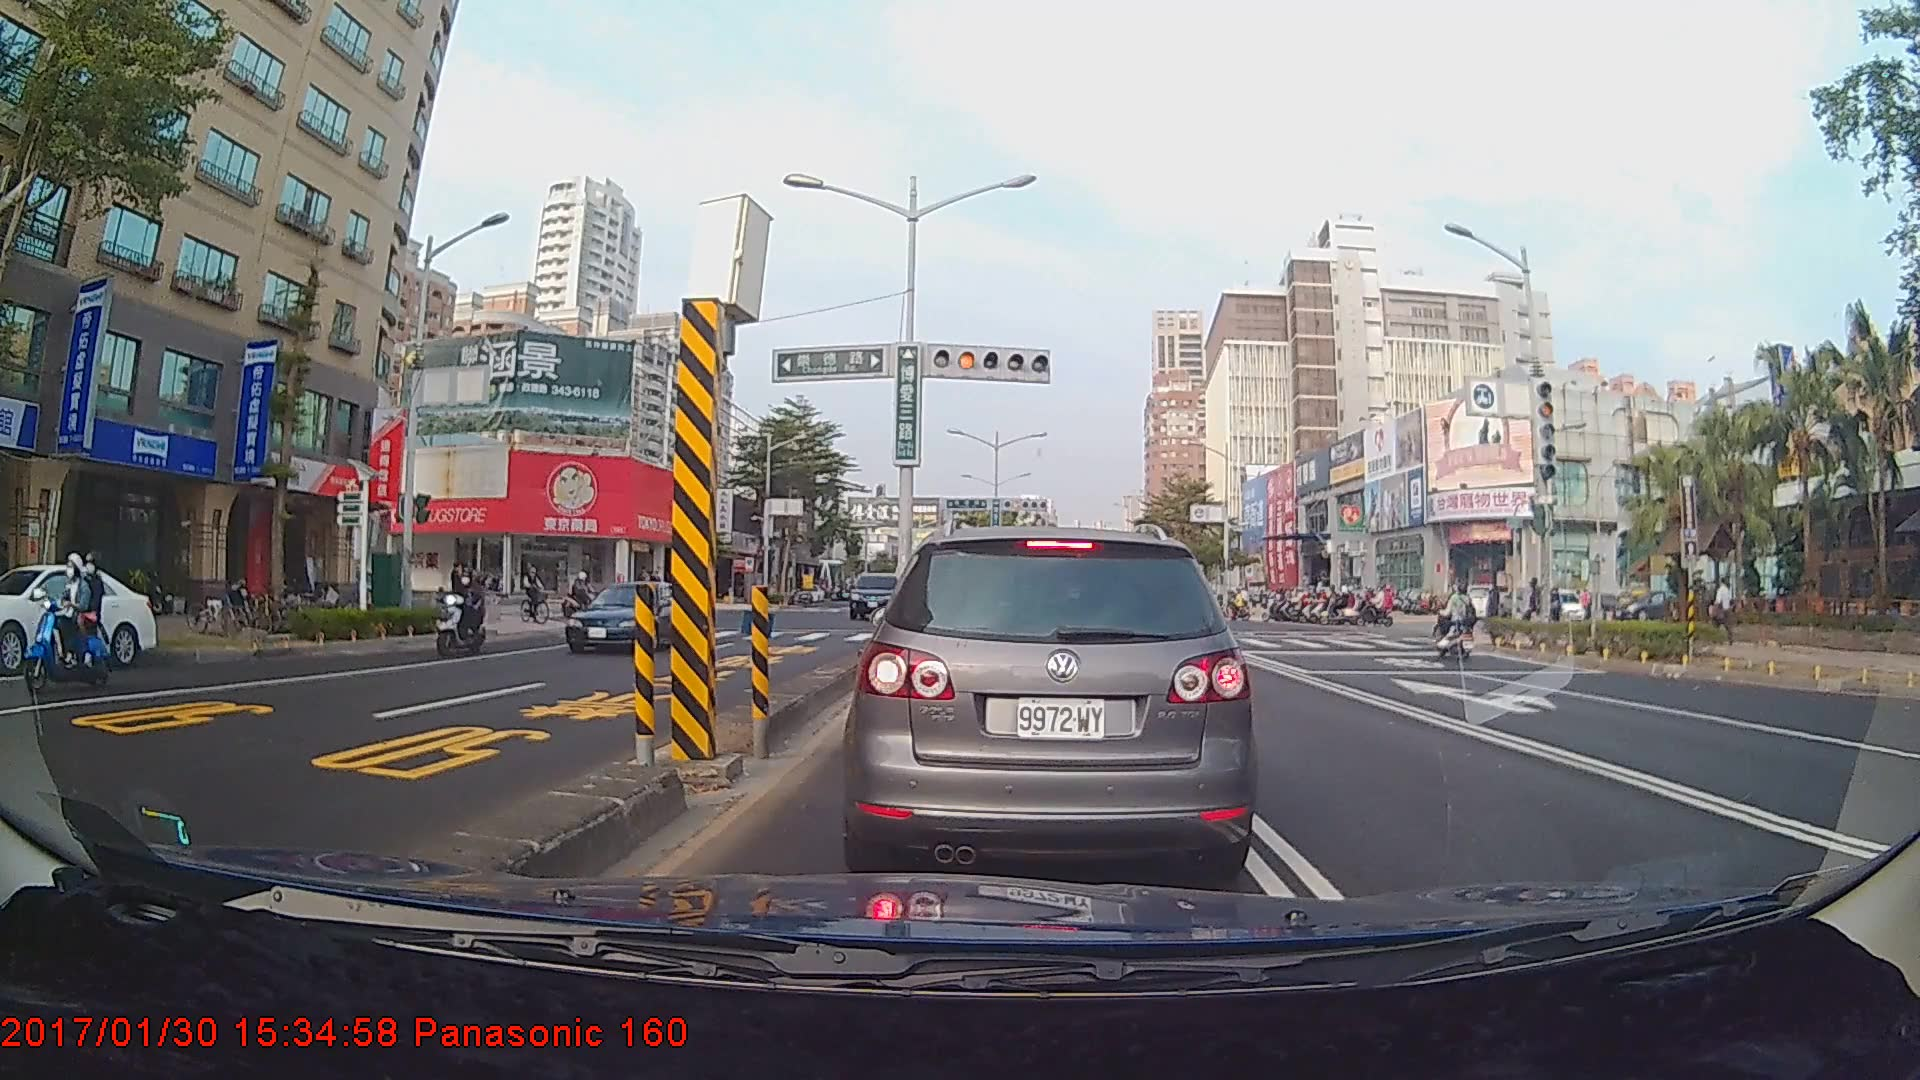pedestrian: (1712, 576, 1739, 644), (447, 563, 467, 620)
rider: (19, 547, 117, 694), (431, 562, 494, 661), (1429, 583, 1487, 657), (562, 566, 609, 619), (522, 566, 551, 627)
vehicle: (836, 517, 1262, 877), (0, 564, 158, 677), (564, 578, 699, 653), (847, 569, 904, 620)
